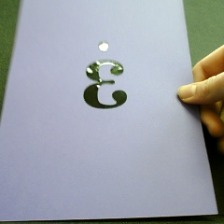violet3: (71, 37, 133, 115)
